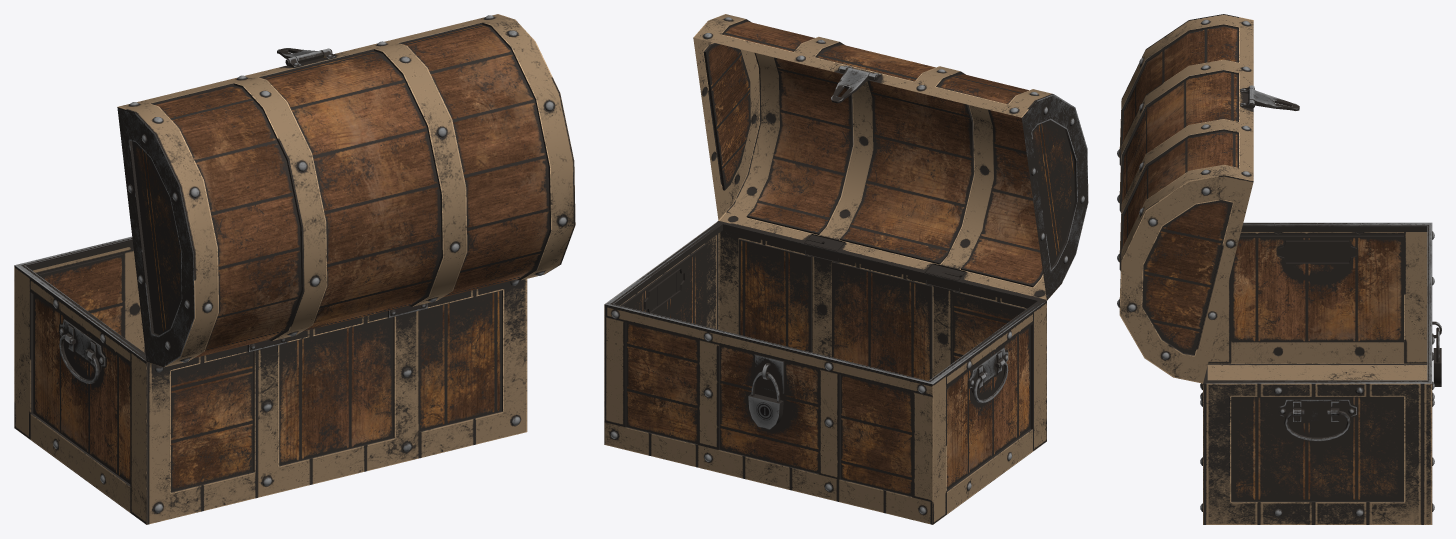
File: chest_open_lod0.glb
3 views of the same model, side by side, from view 1: azimuth 30°, elevation 25°; view 2: azimuth 150°, elevation 25°; view 3: azimuth 270°, elevation 25° (orthographic). The views are drawn at different scales.
Parts seen in each view (by area): view 1: chest_open_lod0; view 2: chest_open_lod0; view 3: chest_open_lod0.
Boxes of the visible parts, <box> form: chest_open_lod0: <box>14,14,575,524</box>; chest_open_lod0: <box>604,14,1088,524</box>; chest_open_lod0: <box>1117,14,1441,524</box>.
Size of the model in its own units: 0.4388 by 0.4368 by 0.367.
1 material, 1 textured.
